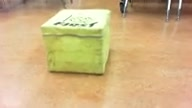cube: (41, 9, 110, 75)
